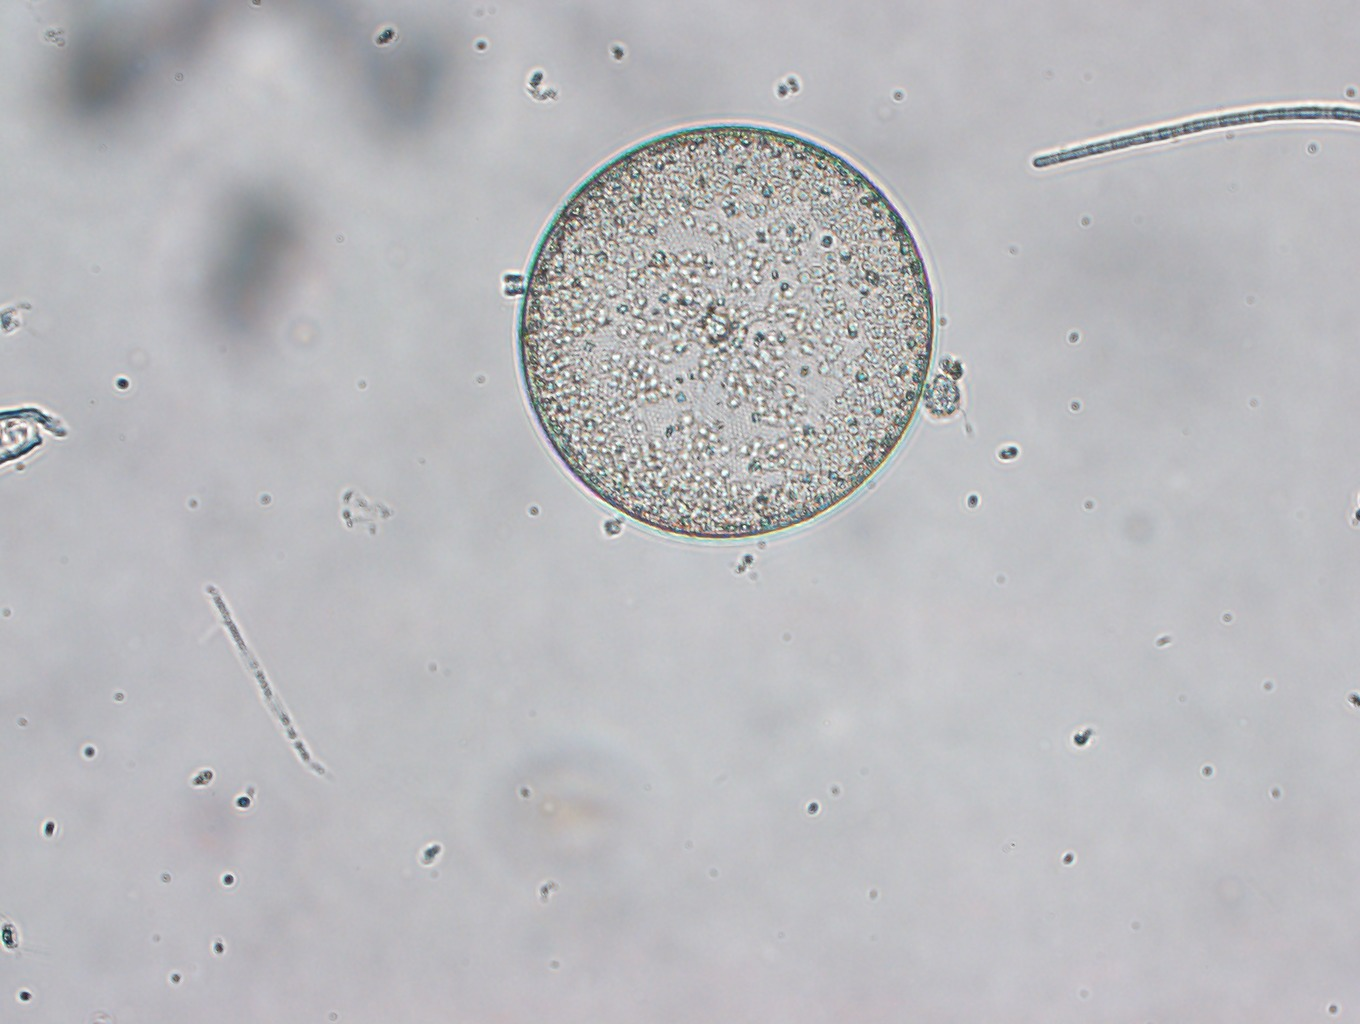coscinodiscus: (519, 120, 933, 540)
